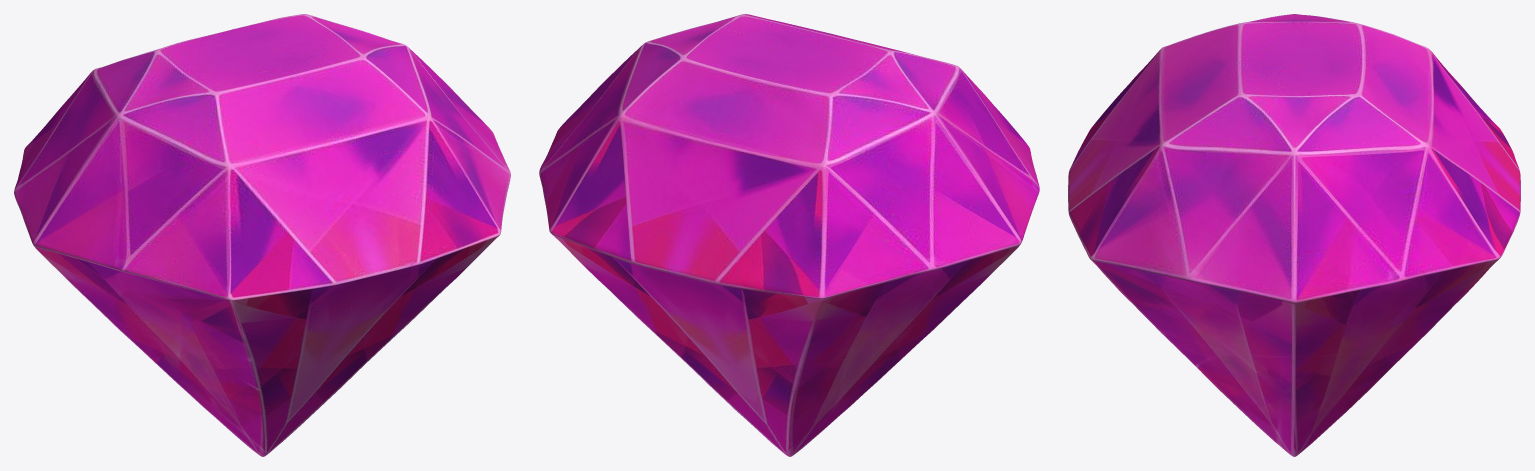
Rendered from BubbleWash_Pink_Gemstone_Claudia_Small.glb.
The picture shows the model from 3 angles, left to right: view 1: azimuth 30°, elevation 25°; view 2: azimuth 150°, elevation 25°; view 3: azimuth 270°, elevation 25°; orthographic projection.
Parts seen in each view (by area): view 1: world; view 2: world; view 3: world.
Boxes of the visible parts, box(x1,y1,x2,y2) form: world: box(14, 14, 510, 456); world: box(539, 14, 1039, 456); world: box(1068, 14, 1520, 456).
Bounding box in the file's own units: 1.9 × 1.59 × 1.64.
1 material, 1 textured.
